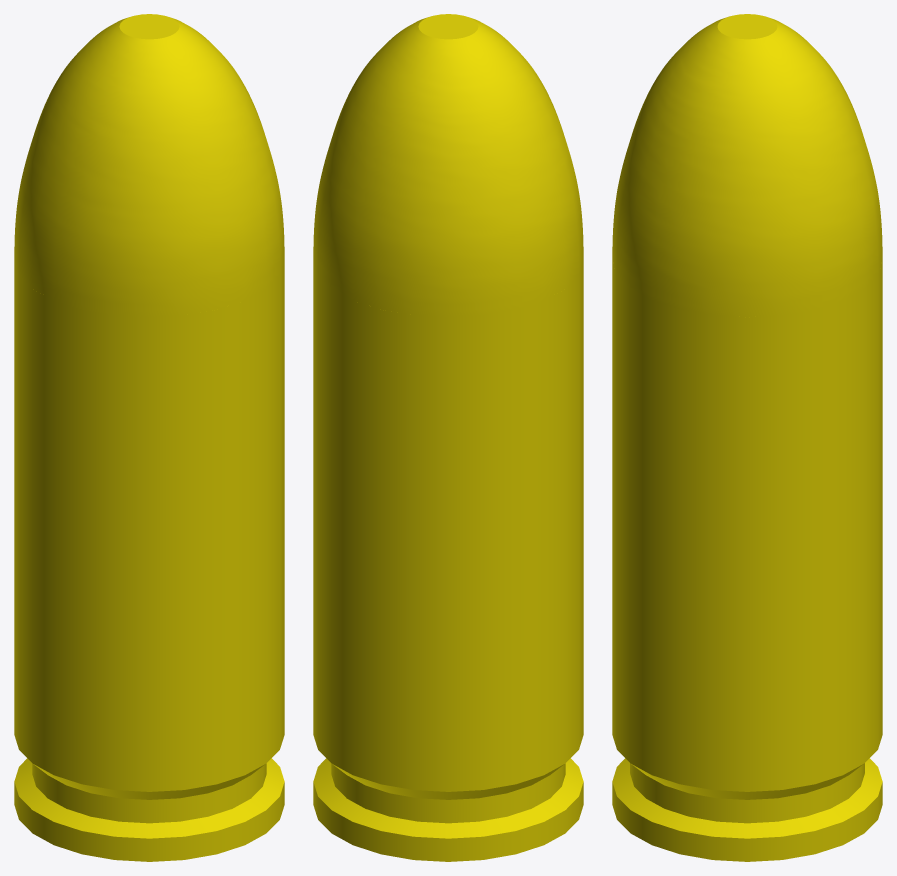
3 views of the same model, side by side, from view 1: azimuth 30°, elevation 25°; view 2: azimuth 150°, elevation 25°; view 3: azimuth 270°, elevation 25° (orthographic).
Visible parts, largest first — view 1: case; view 2: case; view 3: case.
Boxes of the visible parts, left/top/right/bottom form: case: left=14, top=14, right=284, bottom=861; case: left=313, top=14, right=583, bottom=861; case: left=612, top=14, right=882, bottom=861.
Size of the model in its own units: 0.00945 by 0.03 by 0.00945.
